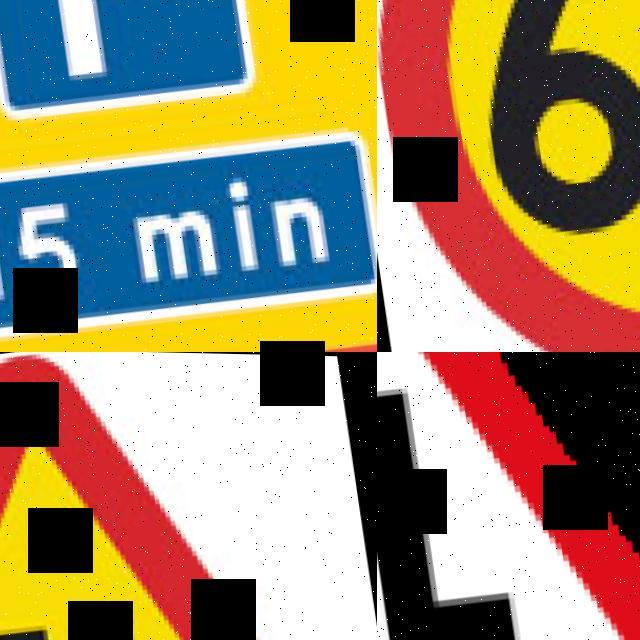131: (0, 352, 377, 640)
Parking allowed for 15min: (0, 0, 377, 352)
Staggered side road junction: (377, 352, 640, 640)
speed limit-60: (377, 0, 640, 352)
